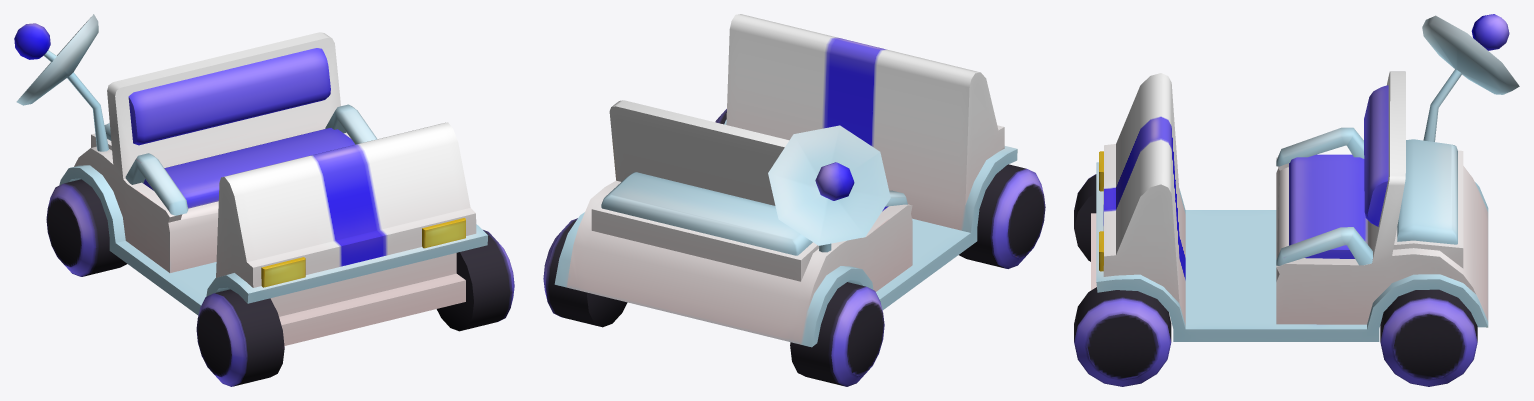
Rendered from space_car.fbx.
3 views of the same model, side by side, from view 1: azimuth 30°, elevation 25°; view 2: azimuth 150°, elevation 25°; view 3: azimuth 270°, elevation 25° (orthographic). The views are drawn at different scales.
Visible parts, largest first — view 1: Cube.066; view 2: Cube.066; view 3: Cube.066.
Part boxes in pixels (x1,y1,x2,y2): Cube.066: (14, 14, 514, 386); Cube.066: (543, 14, 1045, 386); Cube.066: (1074, 14, 1519, 386).
Size of the model in its own units: 2.15 by 1.57 by 2.6.
